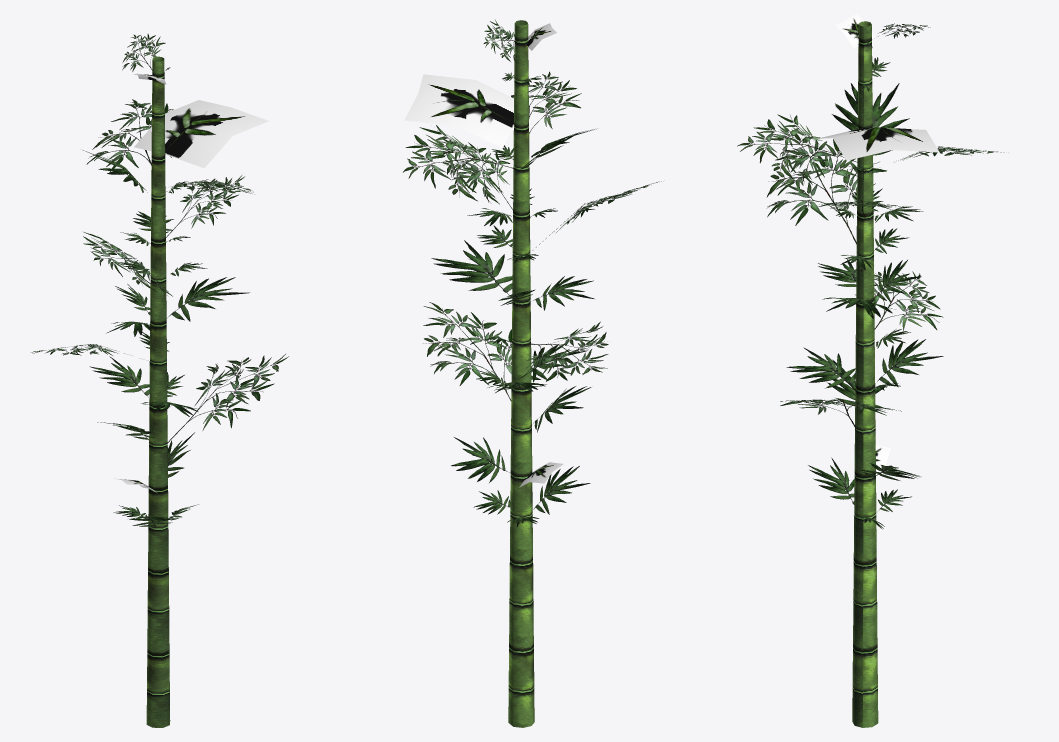
File: bamboo_tree.fbx
3 renders of one model, left to right at view 1: azimuth 30°, elevation 25°; view 2: azimuth 150°, elevation 25°; view 3: azimuth 270°, elevation 25°, orthographic. The views are drawn at different scales.
Visible parts, largest first — view 1: polySurface92, polySurface87, polySurface81, polySurface104, polySurface135, polySurface103, polySurface88, polySurface90, polySurface136; view 2: polySurface92, polySurface87, polySurface81, polySurface104, polySurface93, polySurface88, polySurface100, polySurface135, polySurface95, polySurface138, polySurface98, polySurface134 (+1 smaller); view 3: polySurface92, polySurface103, polySurface87, polySurface100, polySurface93, polySurface86, polySurface133, polySurface90, polySurface138, polySurface81, polySurface101, polySurface98.
Boxes of the visible parts, box(x1,y1,x2,y2) form: polySurface92: box(146, 56, 170, 727); polySurface87: box(134, 100, 268, 168); polySurface81: box(166, 354, 288, 443); polySurface104: box(86, 99, 171, 172); polySurface135: box(166, 175, 244, 237); polySurface103: box(83, 232, 172, 296); polySurface88: box(167, 277, 250, 321); polySurface90: box(89, 356, 149, 397); polySurface136: box(122, 34, 165, 71); polySurface92: box(508, 20, 534, 727); polySurface87: box(404, 74, 514, 148); polySurface81: box(423, 302, 511, 401); polySurface104: box(403, 125, 513, 204); polySurface93: box(518, 321, 608, 382); polySurface88: box(431, 240, 512, 295); polySurface100: box(511, 71, 581, 133); polySurface135: box(439, 139, 512, 209); polySurface95: box(451, 437, 509, 482); polySurface138: box(533, 466, 590, 514); polySurface98: box(529, 276, 594, 310); polySurface134: box(533, 386, 591, 432); polySurface92: box(852, 21, 878, 727); polySurface103: box(766, 134, 886, 244); polySurface87: box(818, 127, 939, 160); polySurface100: box(737, 114, 857, 184); polySurface93: box(855, 271, 943, 330); polySurface86: box(831, 83, 909, 155); polySurface133: box(786, 347, 855, 388); polySurface90: box(875, 339, 943, 387); polySurface138: box(808, 457, 854, 504); polySurface81: box(780, 399, 901, 428); polySurface101: box(874, 260, 921, 302); polySurface98: box(818, 259, 877, 286).
Bounding box in the file's own units: 211 × 526 × 220.
